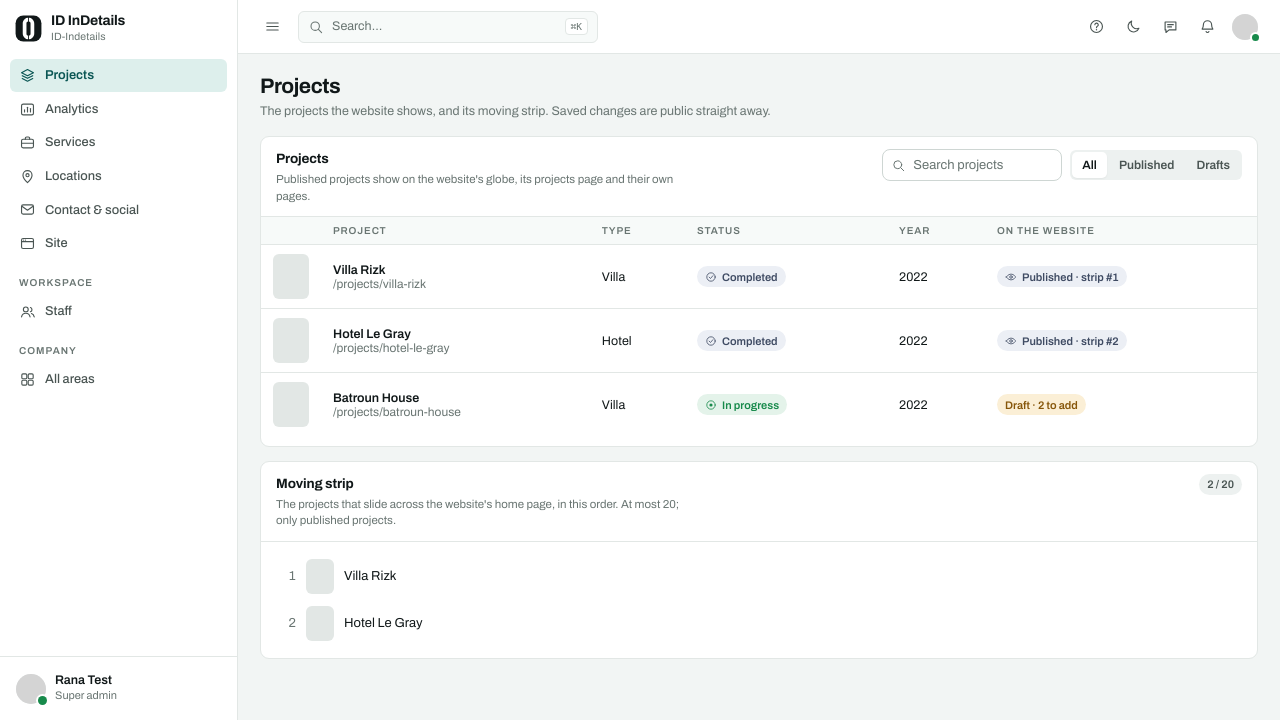
it: the Website page › lets someone with website:view alone look without changing anything
Check: the list named "Moving strip" is shown, box x1=289 y1=559 x2=423 y2=641
Click the button "Services" at (118, 143), box x1=10 y1=126 x2=227 y2=159
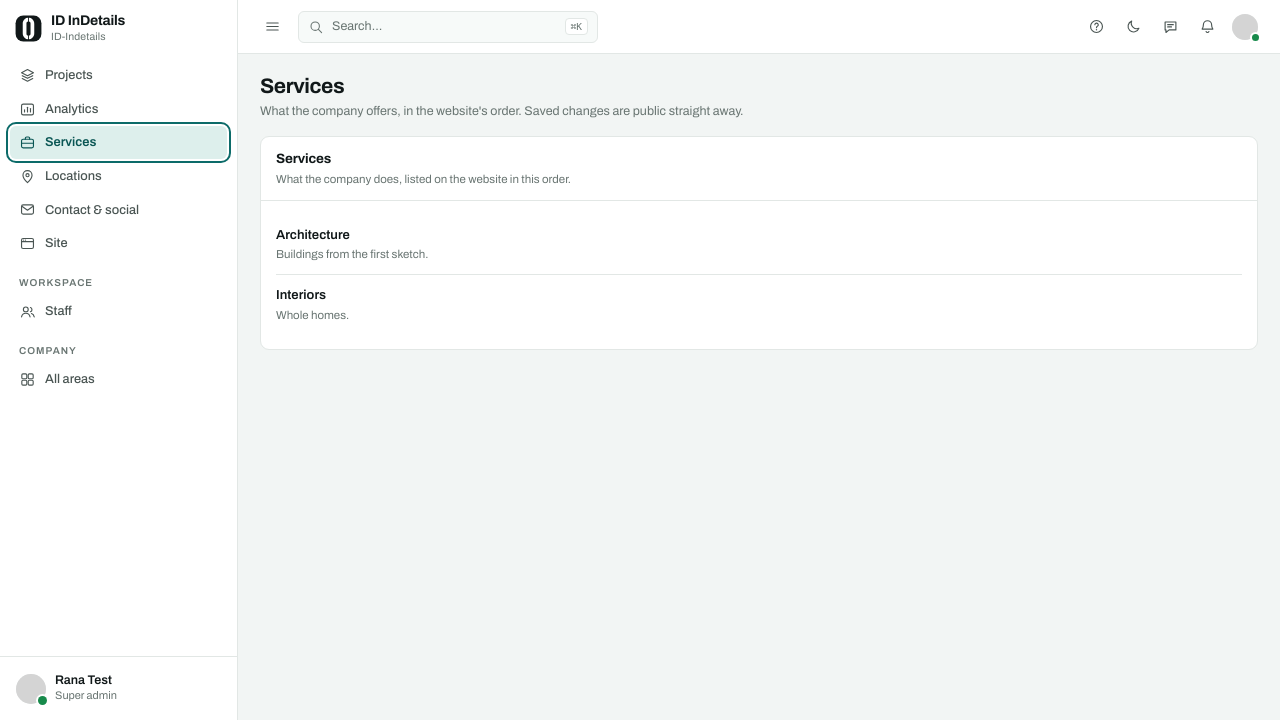
Check: the text "Interiors" is shown, box x1=276 y1=288 x2=326 y2=302
